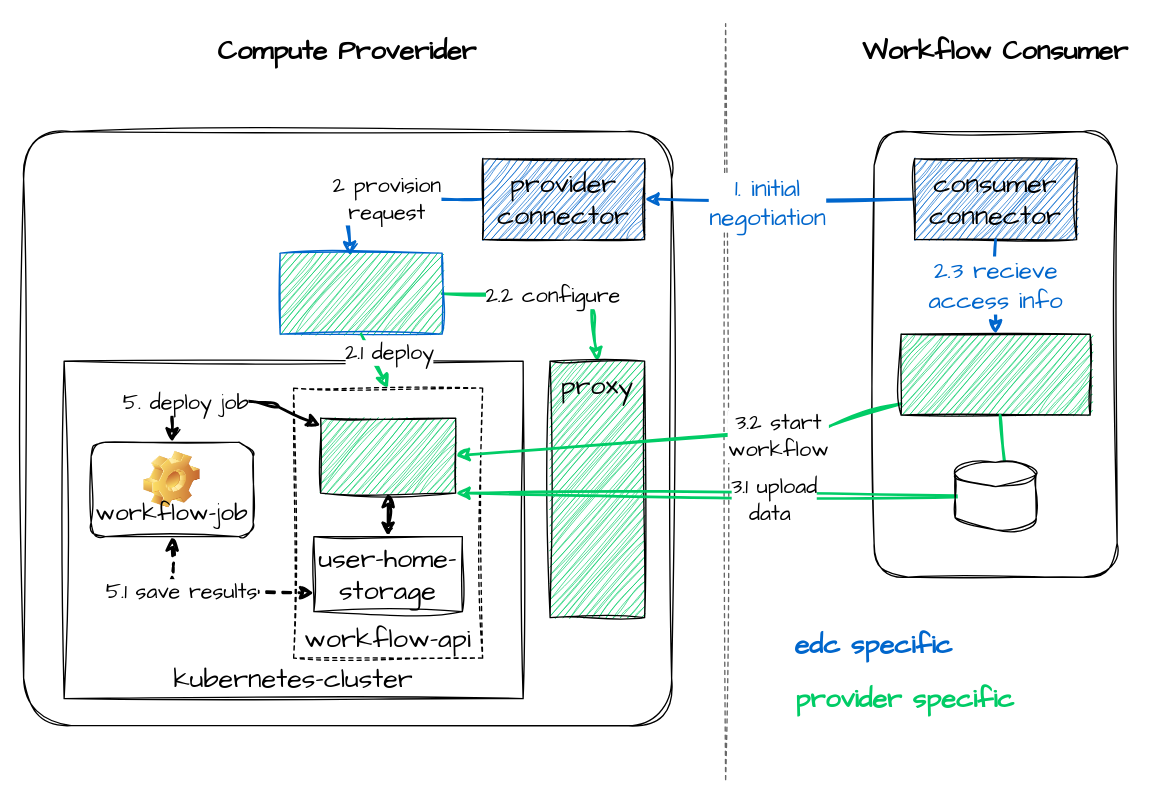
The diagram is 1168 pixels wide and 805 high, and some of its shapes have lost their labels. The shapes that lost their labels are listed below. From the top down, each one's centre as x and y in pixels, then its label:
pixel 360 293: provisioner
pixel 995 374: http-receiver
pixel 387 455: api
pixel 995 495: data
